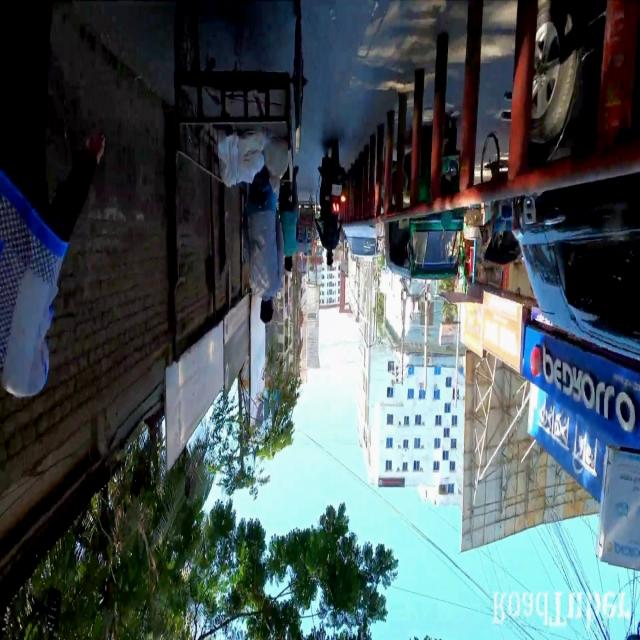black: (507, 0, 640, 375)
white: (342, 219, 384, 261)
